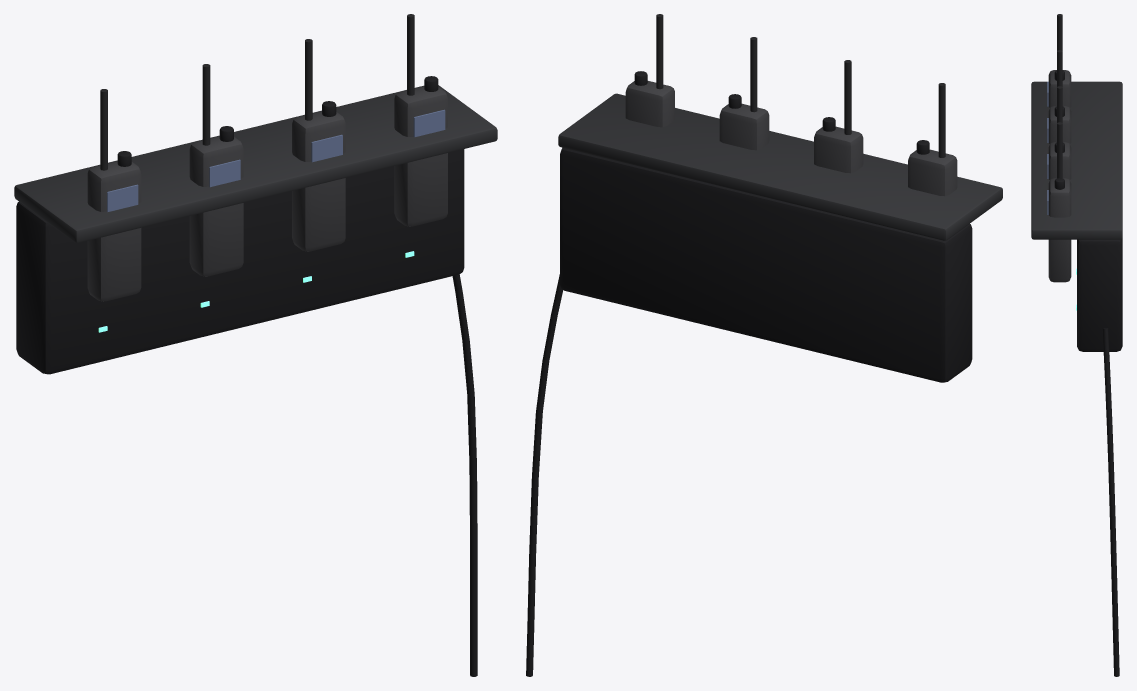
File: caricatore-radio.glb
The picture shows the model from 3 angles, left to right: view 1: azimuth 30°, elevation 25°; view 2: azimuth 150°, elevation 25°; view 3: azimuth 270°, elevation 25°; orthographic projection. The views are drawn at different scales.
Visible parts, largest first — view 1: caricatore-radio; view 2: caricatore-radio; view 3: caricatore-radio.
Boxes of the visible parts, x1,y1,x2,y2 form: caricatore-radio: (14,14,497,676); caricatore-radio: (526,14,1002,676); caricatore-radio: (1031,14,1122,676).
Bounding box in the file's own units: 0.675 × 1 × 0.16.
